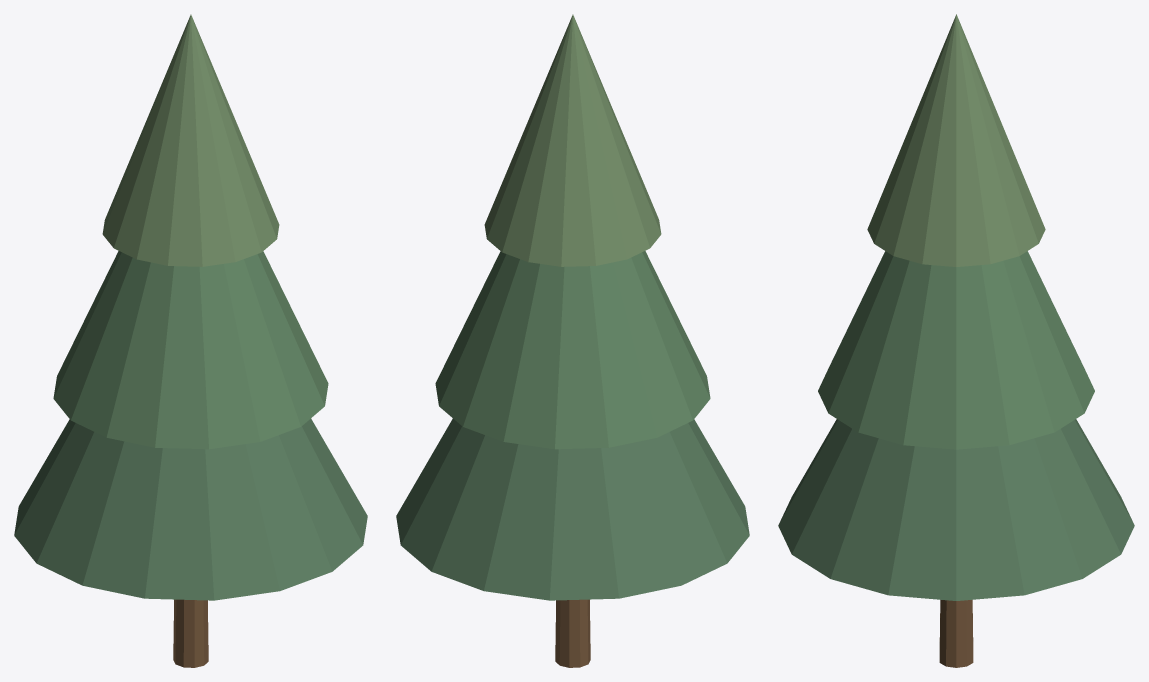
Rendered from pine_high.gltf.
3 renders of one model, left to right at view 1: azimuth 30°, elevation 25°; view 2: azimuth 150°, elevation 25°; view 3: azimuth 270°, elevation 25°, orthographic.
Size of the model in its own units: 3.6 by 7.2 by 3.6.
